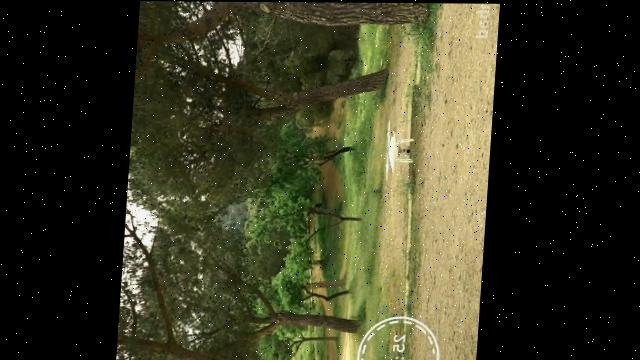drone: (383, 116, 420, 179)
